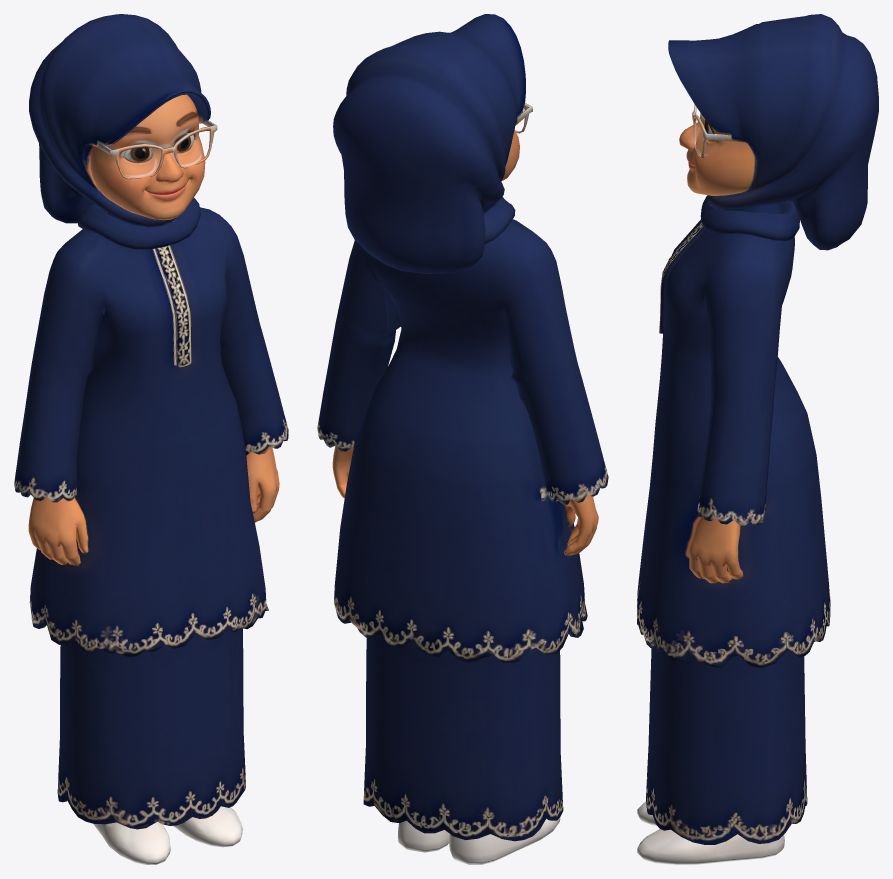
File: CikguEby_source.glb
3 views of the same model, side by side, from view 1: azimuth 30°, elevation 25°; view 2: azimuth 150°, elevation 25°; view 3: azimuth 270°, elevation 25° (orthographic). The views are drawn at different scales.
Parts seen in each view (by area): view 1: tripo_4c4cf094_68d4_430f_a157_997a2bf3ee30; view 2: tripo_4c4cf094_68d4_430f_a157_997a2bf3ee30; view 3: tripo_4c4cf094_68d4_430f_a157_997a2bf3ee30.
Part boxes in pixels (left/top/right/bottom): tripo_4c4cf094_68d4_430f_a157_997a2bf3ee30: left=14, top=14, right=288, bottom=864; tripo_4c4cf094_68d4_430f_a157_997a2bf3ee30: left=317, top=14, right=608, bottom=864; tripo_4c4cf094_68d4_430f_a157_997a2bf3ee30: left=637, top=14, right=878, bottom=864.
Bounding box in the file's own units: 0.356 × 0.9995 × 0.269.
Materials: 1 (1 with a texture image).
